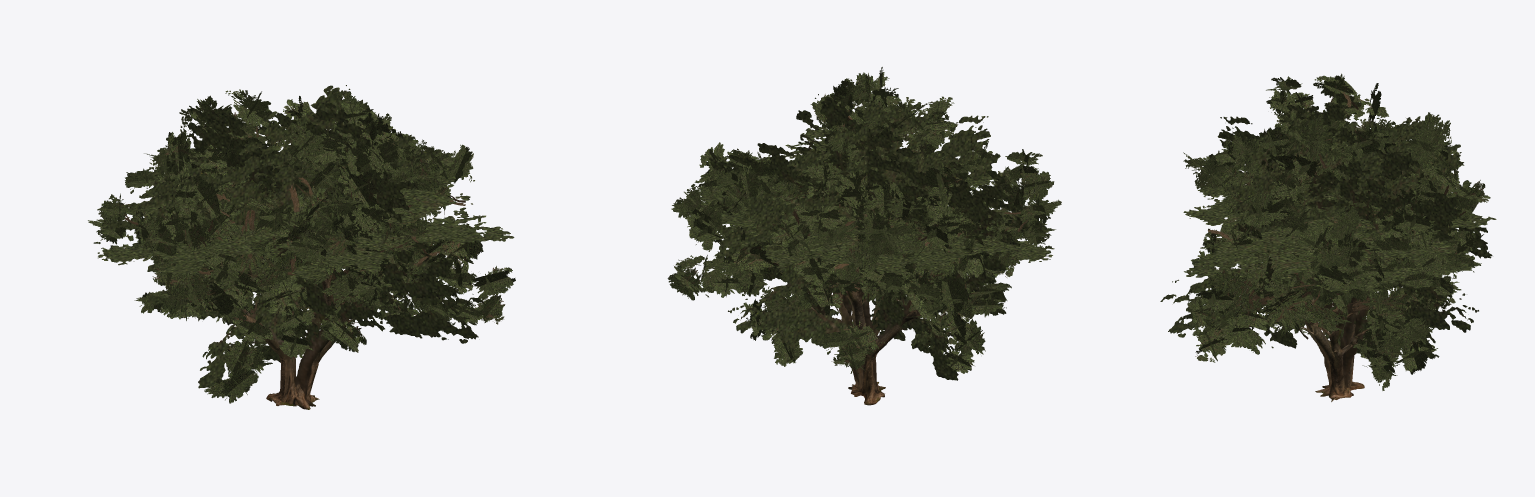
File: oak.gltf
3 renders of one model, left to right at view 1: azimuth 30°, elevation 25°; view 2: azimuth 150°, elevation 25°; view 3: azimuth 270°, elevation 25°, orthographic. The views are drawn at different scales.
Parts seen in each view (by area): view 1: oak; view 2: oak; view 3: oak.
Part boxes in pixels (x1,y1,x2,y2): oak: (88,85,515,409); oak: (667,67,1061,405); oak: (1160,73,1496,401).
Bounding box in the file's own units: 12.24 × 9.32 × 10.15.
Materials: 5 (5 with a texture image).
